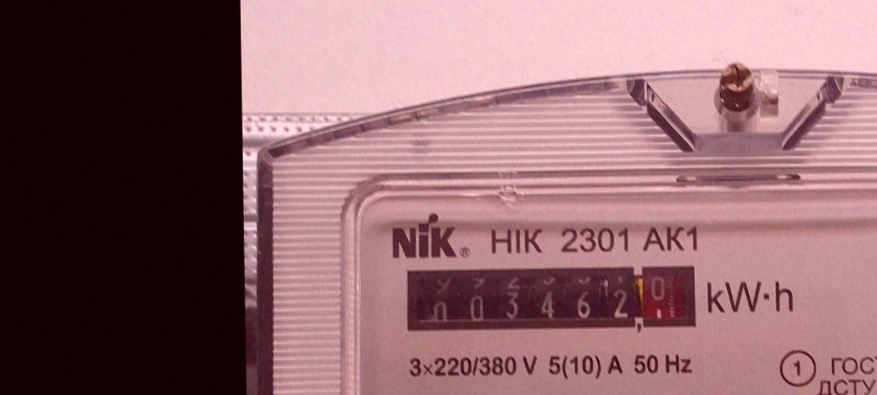0: (468, 290, 486, 320), (650, 273, 667, 301), (430, 297, 449, 320)
2: (612, 285, 630, 318)
3: (503, 288, 521, 320)
4: (540, 286, 557, 319)
6: (574, 286, 594, 320)
9: (433, 275, 453, 294)
screen: (394, 252, 708, 348)
